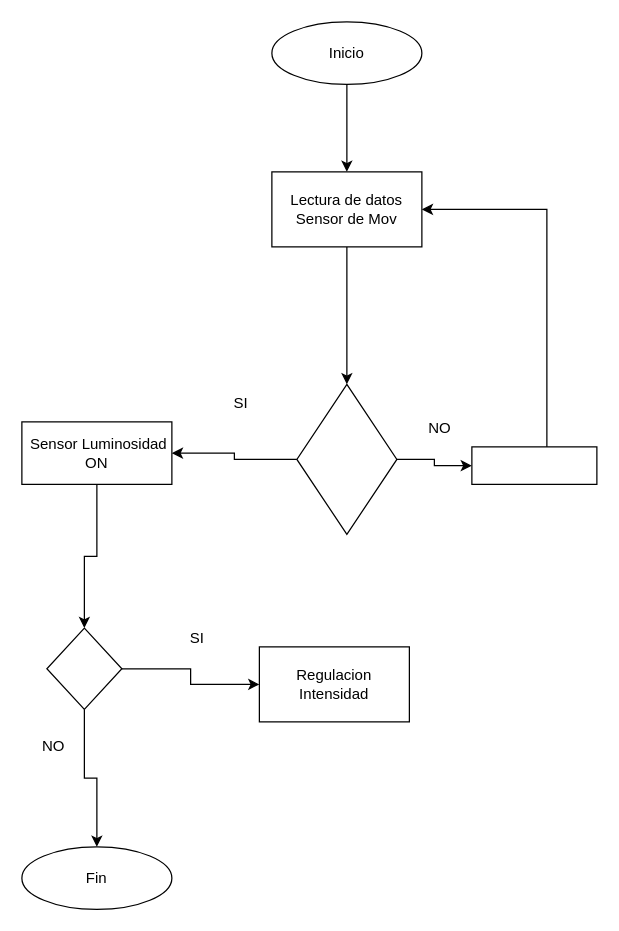
Some shapes in this 619 by 931 pixel diagram are drawn without their labels. Here are the shapes that lost their labels. From the top down, the box of each, then its label:
(296, 383, 397, 534): Hay alguien en la sala?
(471, 446, 597, 484): Sensor Luminosidad Off
(46, 627, 122, 709): Prender Luces?
